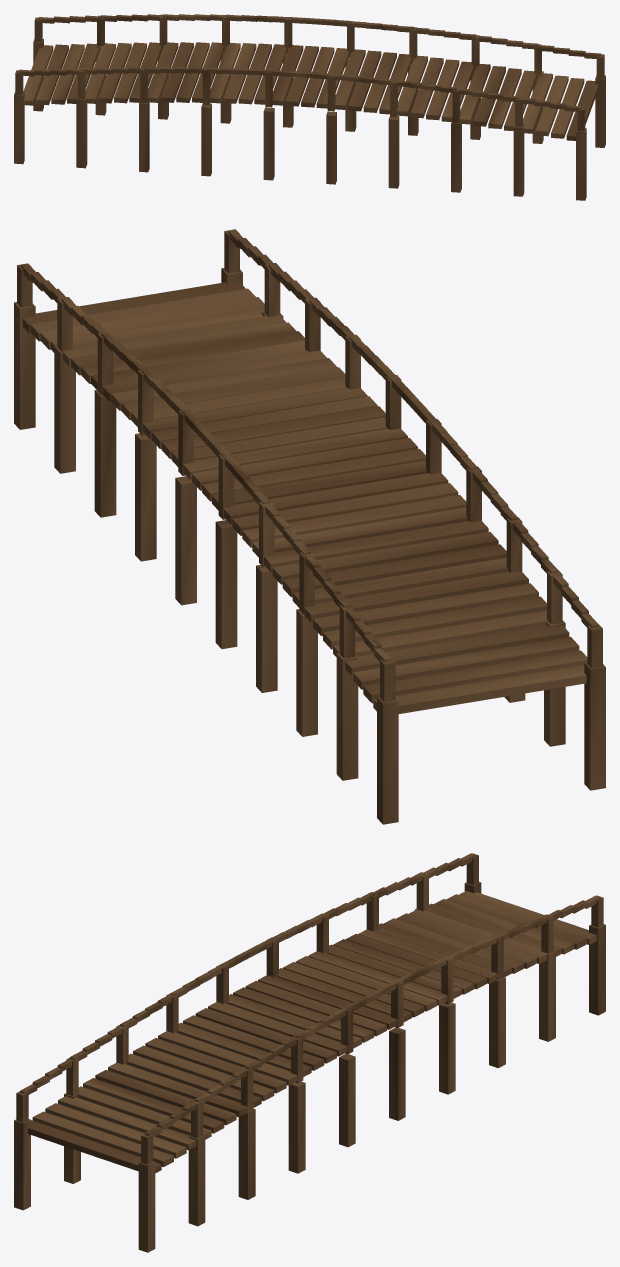
The model's file is TRN2_Bridge_Wood.fbx.
3 renders of one model, top to bottom at view 1: azimuth 30°, elevation 25°; view 2: azimuth 150°, elevation 25°; view 3: azimuth 270°, elevation 25°, orthographic. The views are drawn at different scales.
Visible parts, largest first — view 1: TRN2_Bridge_Wood.001; view 2: TRN2_Bridge_Wood.001; view 3: TRN2_Bridge_Wood.001.
Part boxes in pixels (bbox=[...]): TRN2_Bridge_Wood.001: bbox=[14, 14, 605, 200]; TRN2_Bridge_Wood.001: bbox=[14, 229, 605, 824]; TRN2_Bridge_Wood.001: bbox=[14, 853, 605, 1252].
Size of the model in its own units: 16.98 by 3.77 by 14.82.
